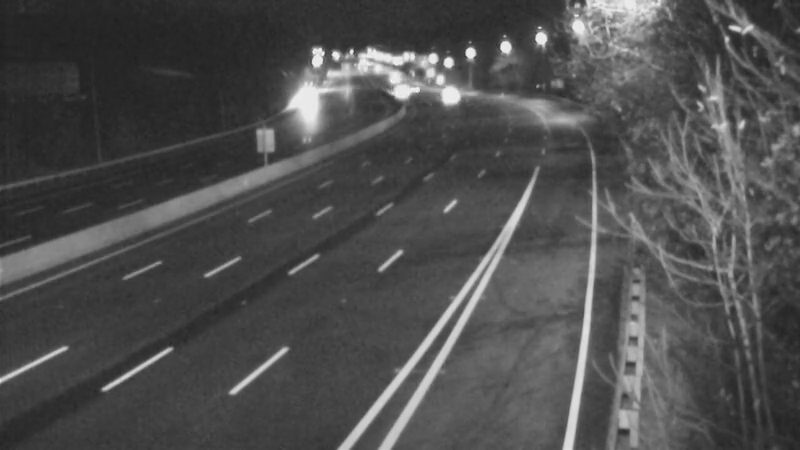vehicle: (378, 68, 428, 118), (424, 75, 474, 125)
